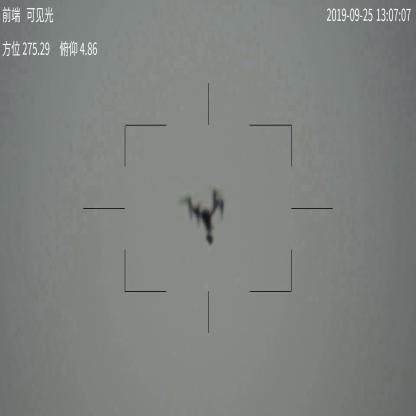uav: (183, 184, 227, 245)
